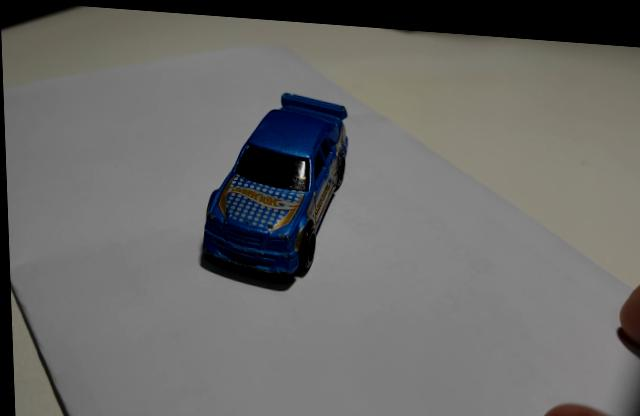04_MERZEDES: (198, 89, 348, 273)
